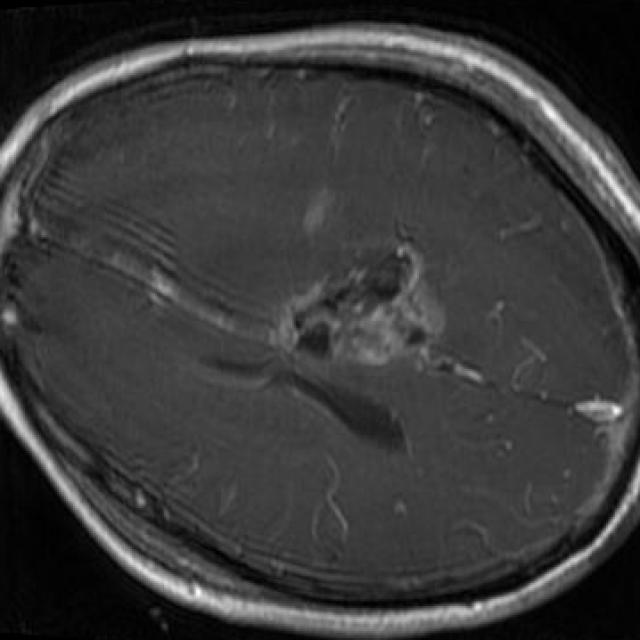glioma: (278, 237, 444, 367)
